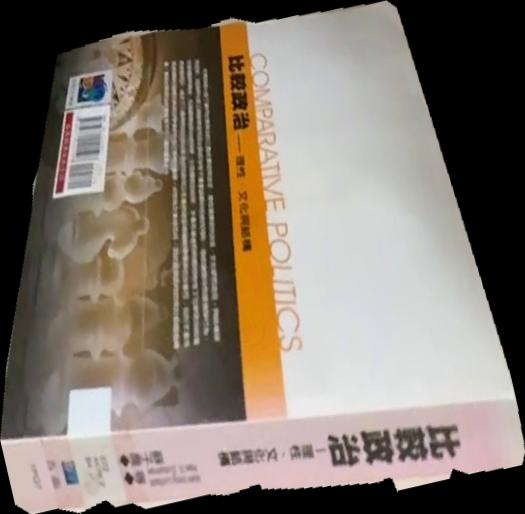flat: (1, 1, 525, 514)
